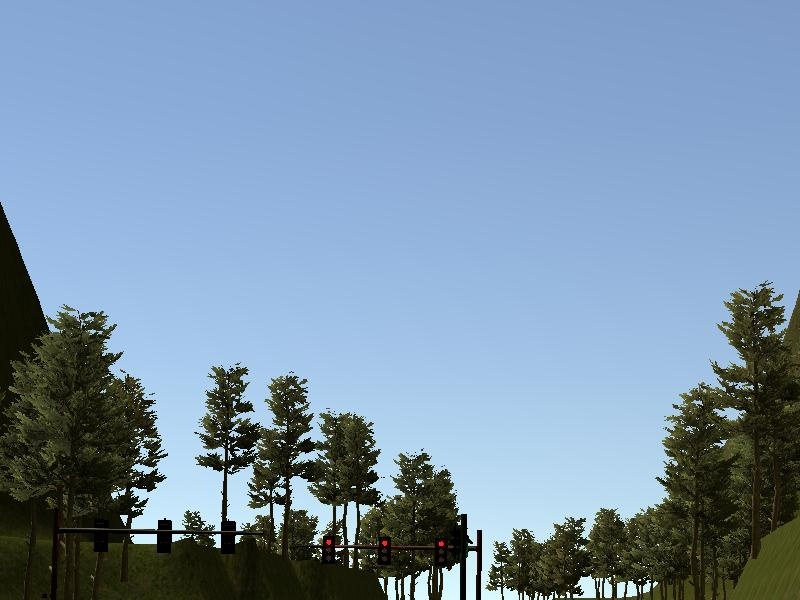Red: (377, 536, 391, 564), (435, 538, 447, 567), (323, 536, 335, 564)
